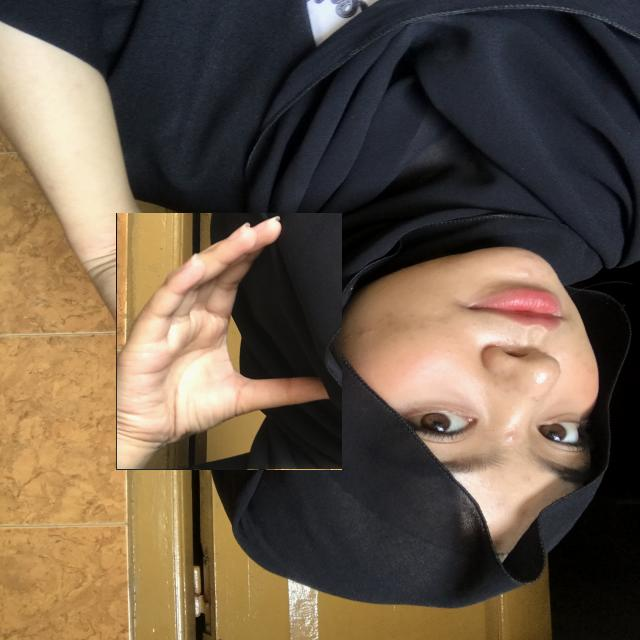mendengar: (116, 213, 342, 470)
